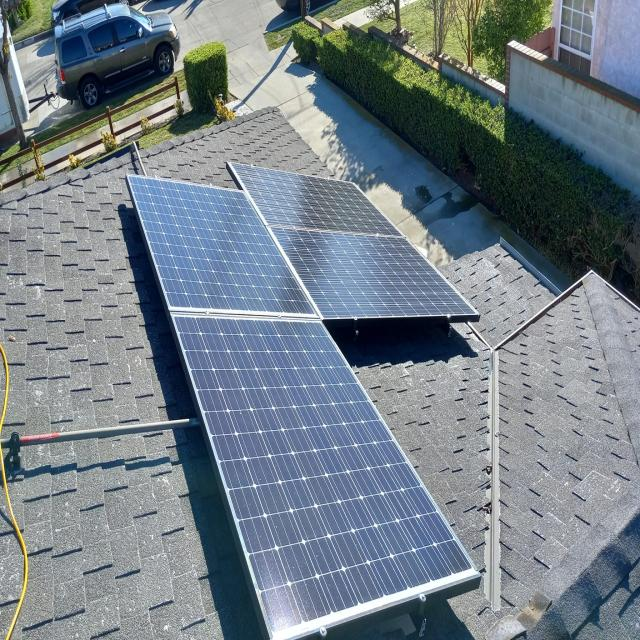clean-solar-panel: (126, 176, 480, 638), (229, 162, 479, 322)
